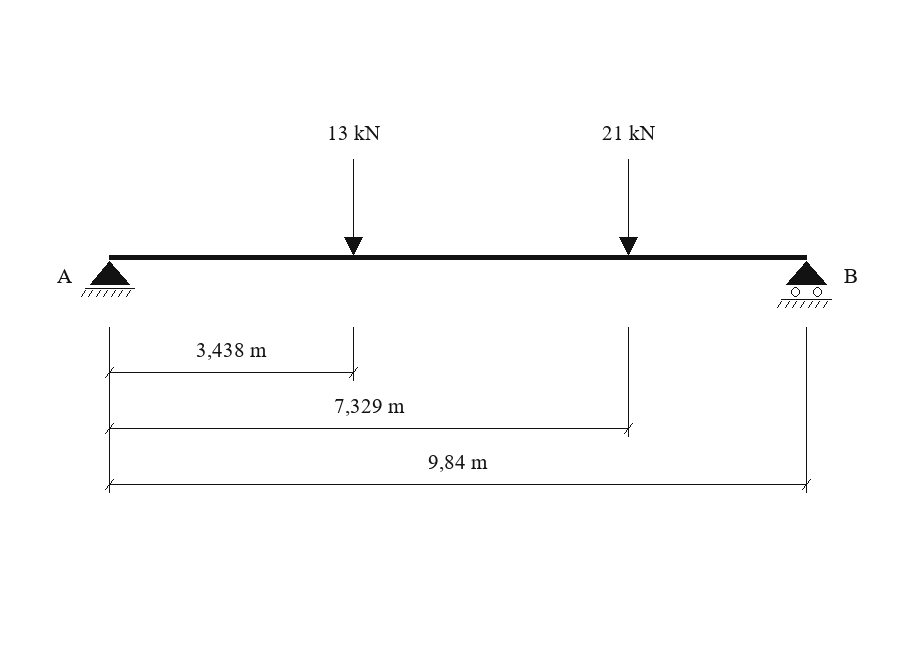pin_support: (81, 261, 135, 297)
point_load: (344, 159, 363, 255), (619, 159, 638, 255)
roller_support: (777, 261, 832, 308)
